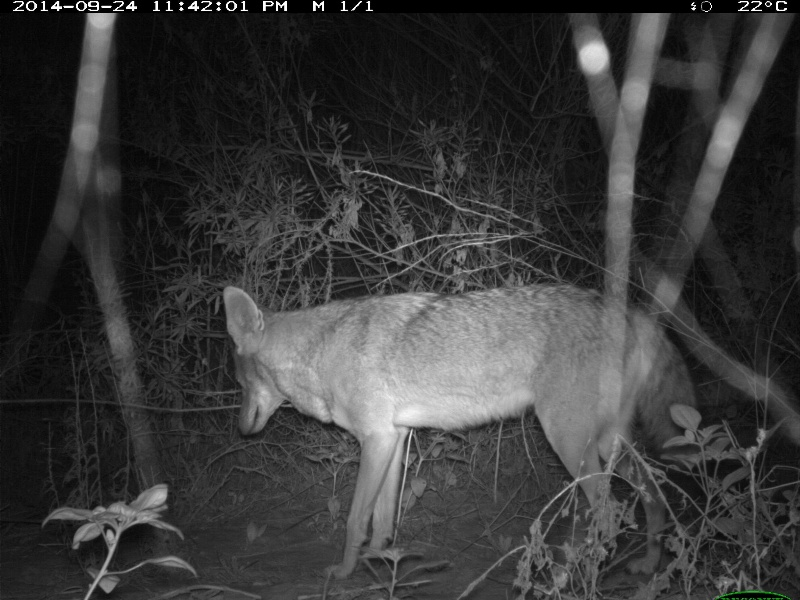coyote: (217, 280, 706, 581)
